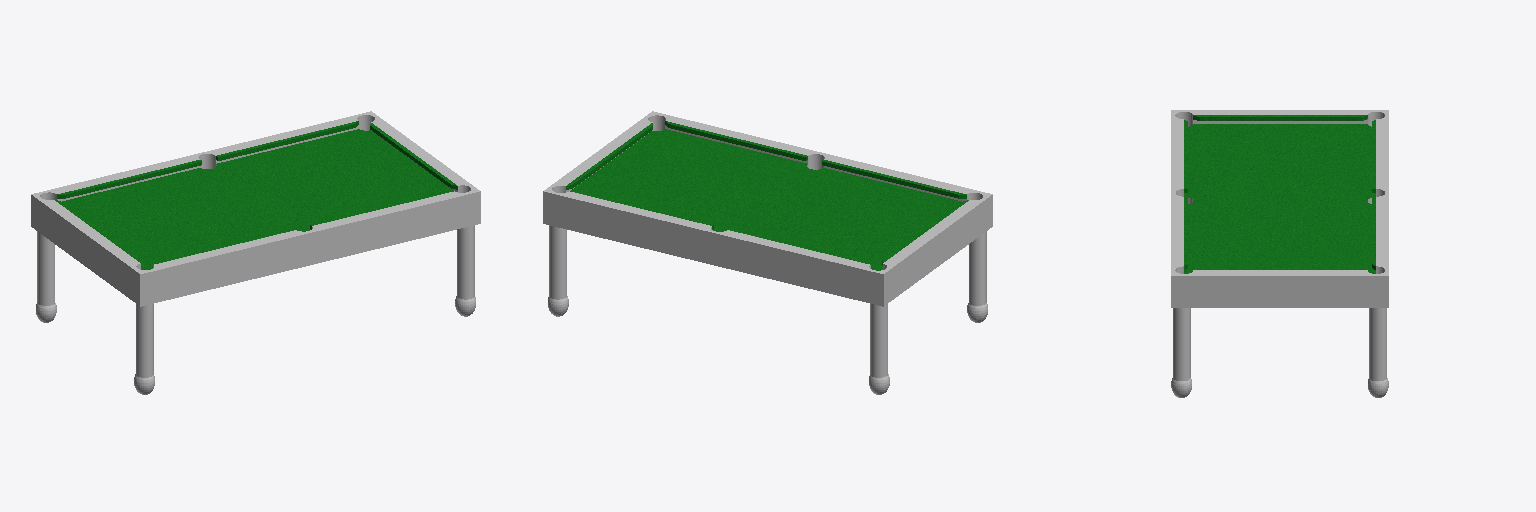
The picture shows the model from 3 angles: view 1: azimuth 30°, elevation 25°; view 2: azimuth 150°, elevation 25°; view 3: azimuth 270°, elevation 25°; orthographic projection.
Parts seen in each view (by area): view 1: Base_Cube.013, Legs_Sphere.003, Bumpers_Cube.007; view 2: Base_Cube.013, Legs_Sphere.003, Bumpers_Cube.007; view 3: Base_Cube.013, Legs_Sphere.003, Bumpers_Cube.007.
Boxes of the visible parts, box(x1,y1,x2,y2) form: Base_Cube.013: box(31, 111, 480, 306); Legs_Sphere.003: box(36, 225, 475, 394); Bumpers_Cube.007: box(55, 121, 457, 263); Base_Cube.013: box(543, 111, 992, 306); Legs_Sphere.003: box(548, 225, 987, 394); Bumpers_Cube.007: box(566, 121, 968, 264); Base_Cube.013: box(1171, 110, 1388, 307); Legs_Sphere.003: box(1171, 308, 1388, 397); Bumpers_Cube.007: box(1184, 115, 1375, 269).
Bounding box in the file's own units: 88 × 31.2 × 49.
Materials: 5 (1 with a texture image).